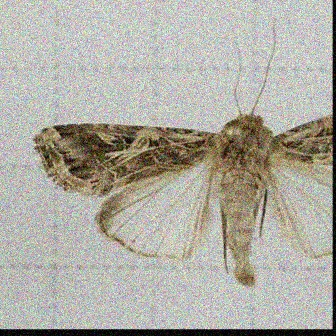Spodoptera litura: (32, 16, 332, 287)
